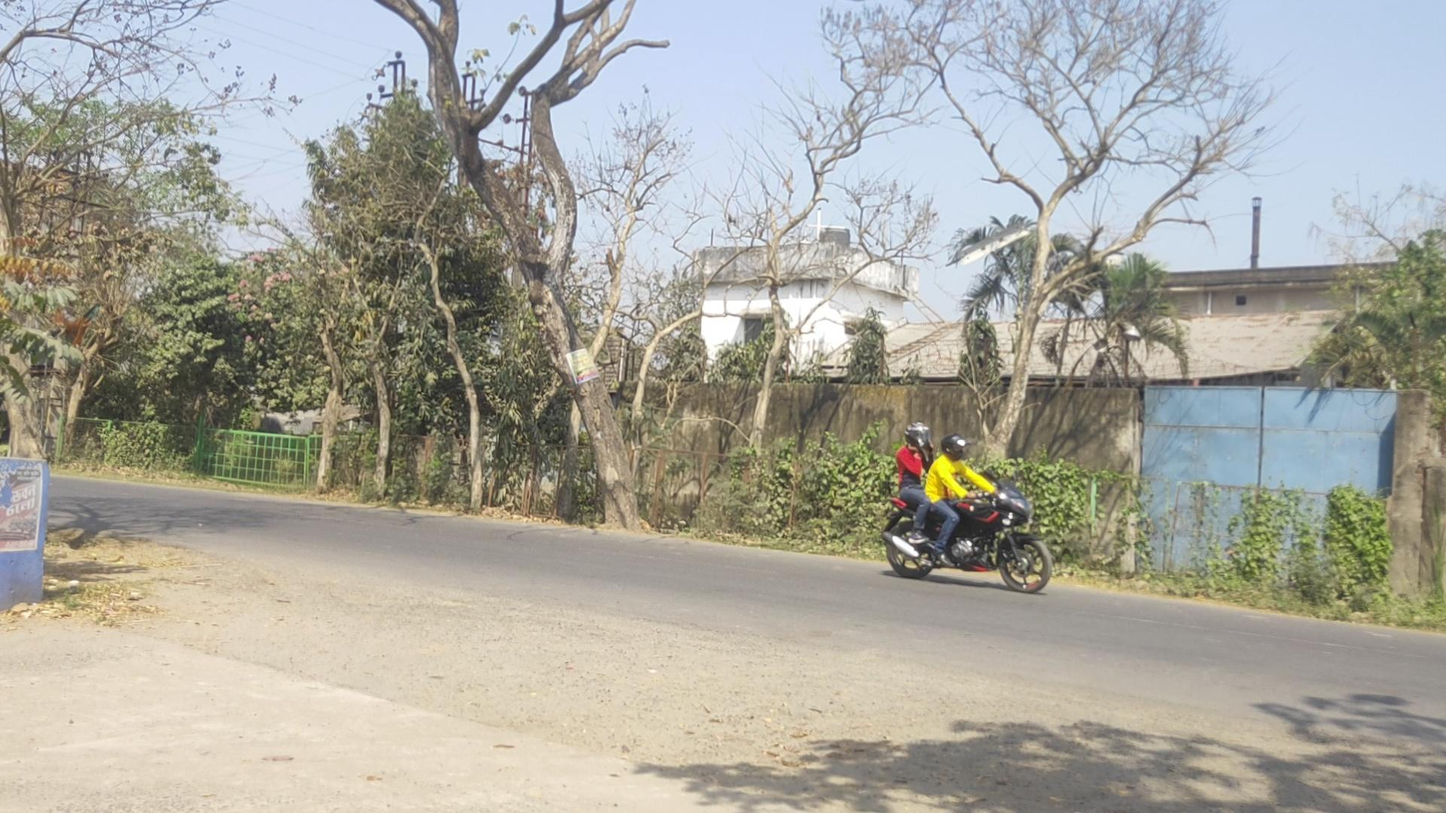bike: (880, 422, 1052, 594)
